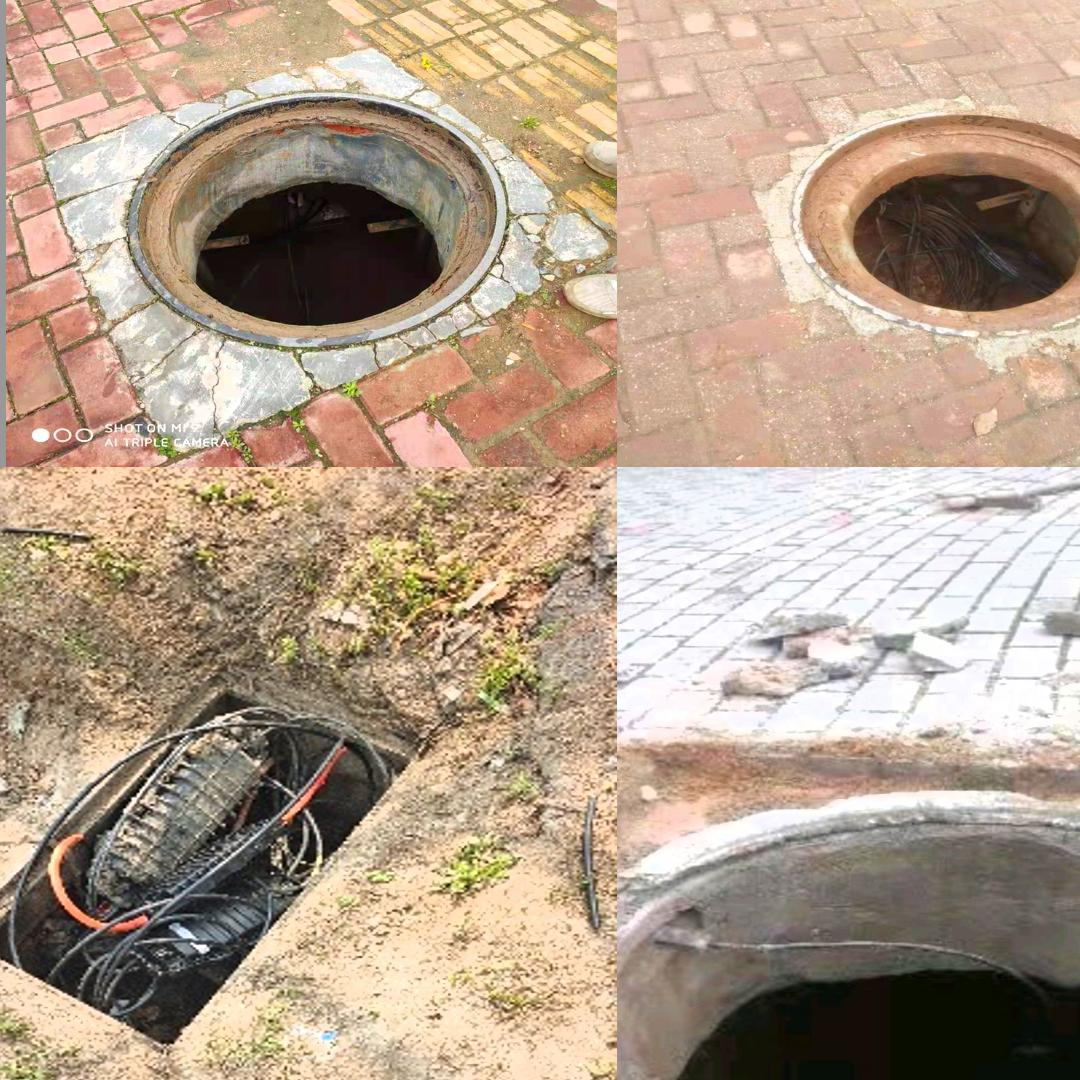lose: (0, 676, 437, 1052), (617, 800, 1080, 1080), (124, 92, 508, 352), (789, 110, 1080, 339)
